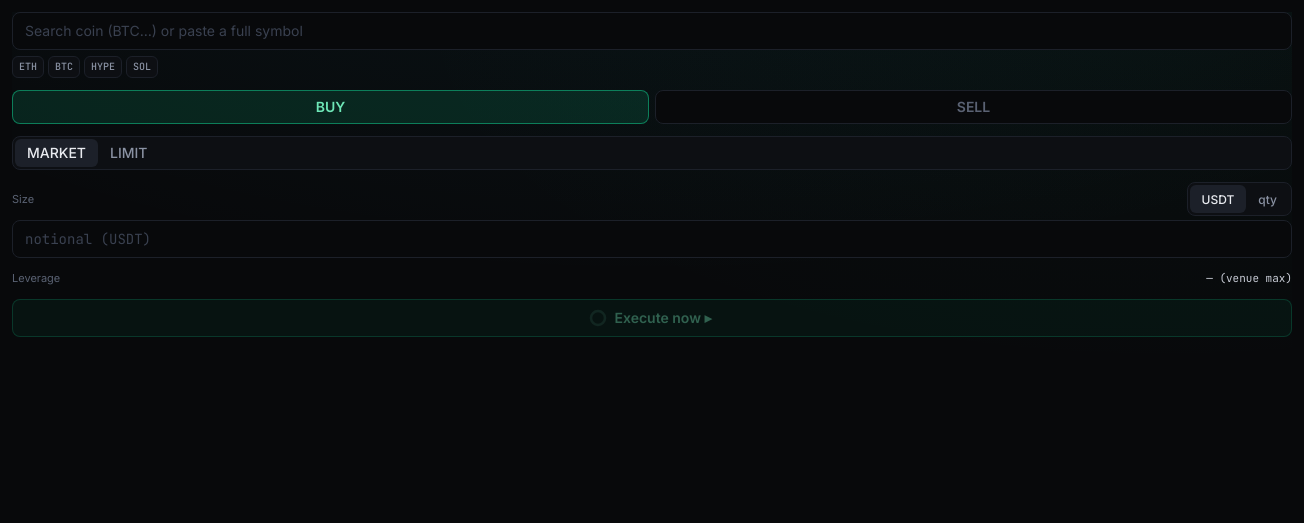
Test: SingleTicket › blur-snaps a resting SELL price UP, never down onto the bid (Hyperliquid)
In the field labelled "Symbol search": (652, 31) [12,12,1292,50], type "BTC"
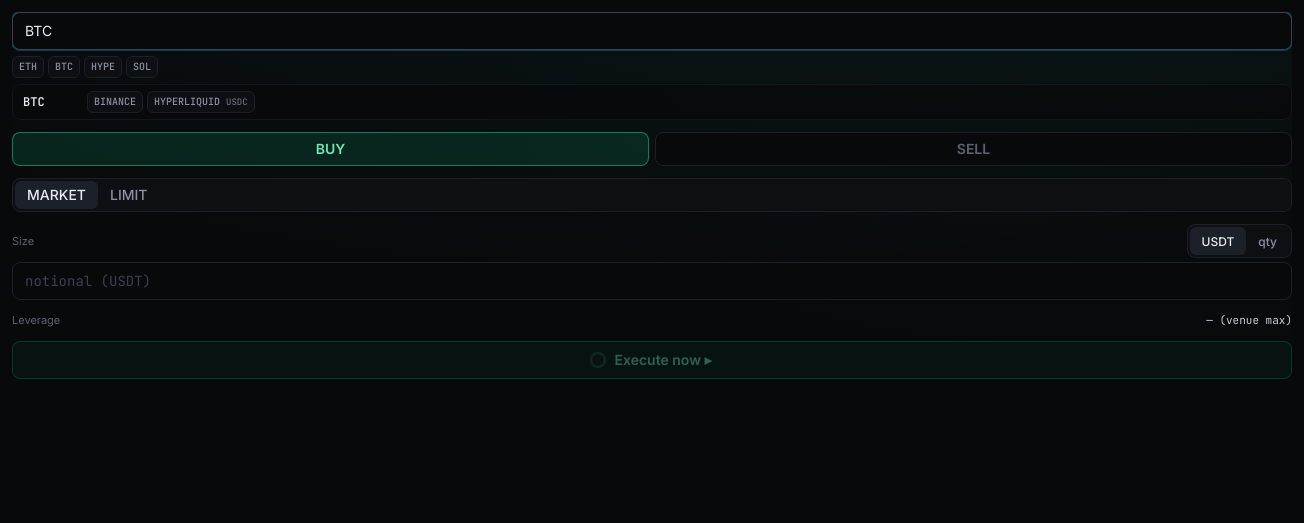
Click the button "HYPERLIQUID USDC": (201, 102) [147,91,255,113]
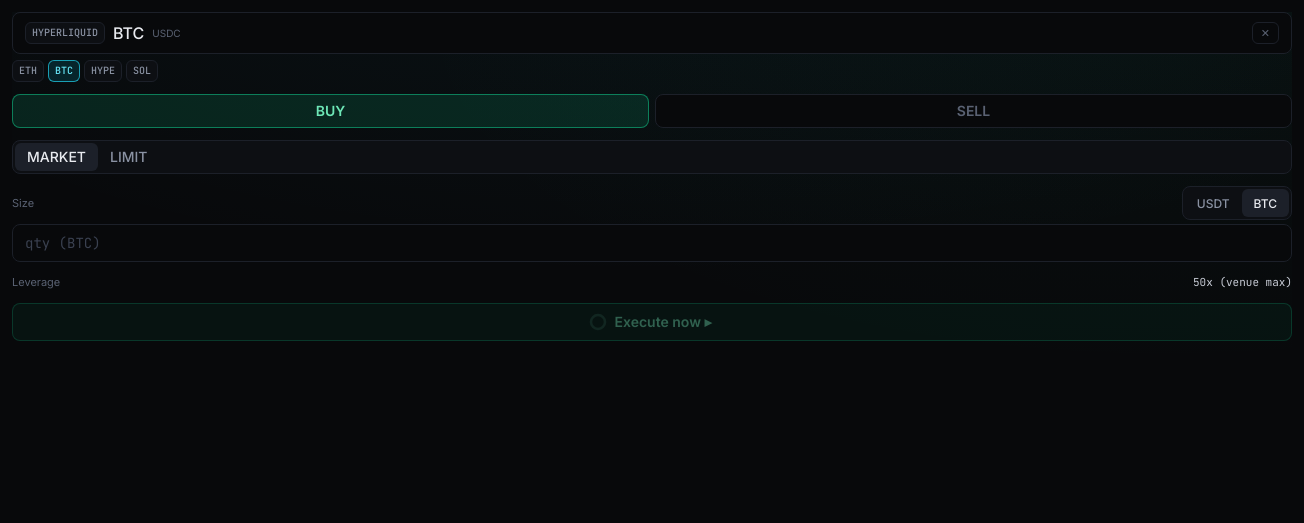
Check: the text "50x (venue max)" is shown, box [1193,274,1292,290]
Click the radio button labelled "SELL": (974, 111) [655,94,1292,128]
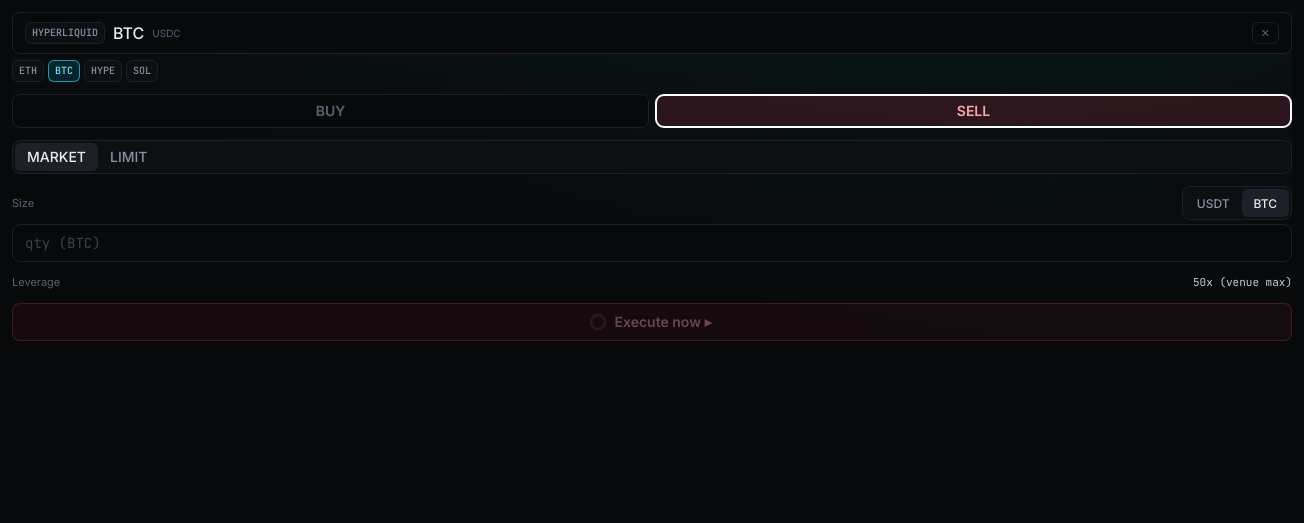
Click the radio button labelled "LIMIT": (129, 157) [98,143,160,171]
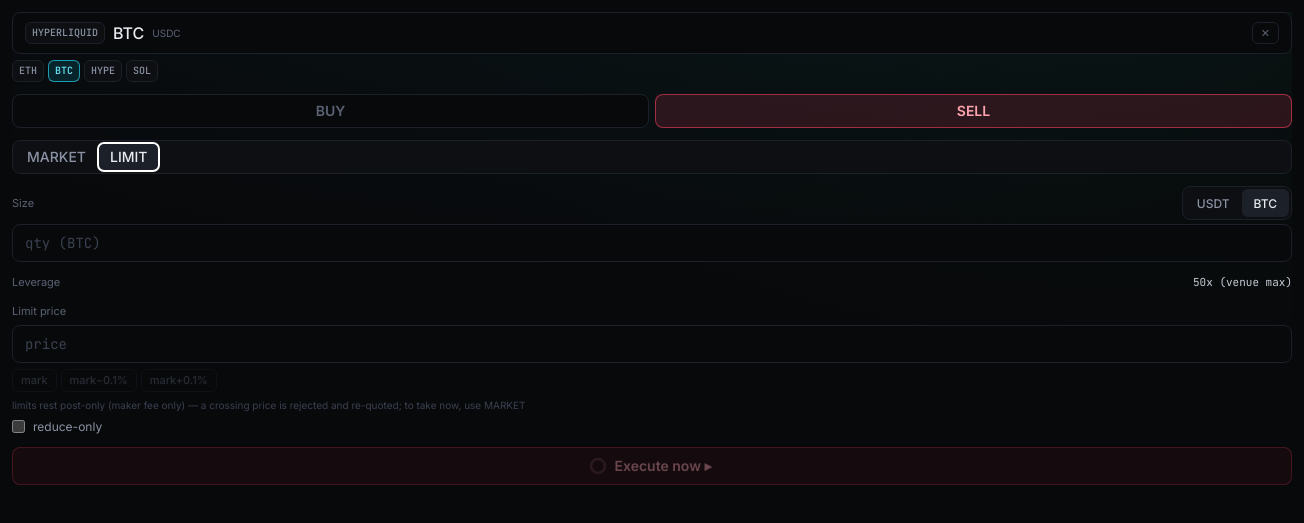
In the field labelled "Limit price": (652, 344) [12,325,1292,363], type "61717.4"
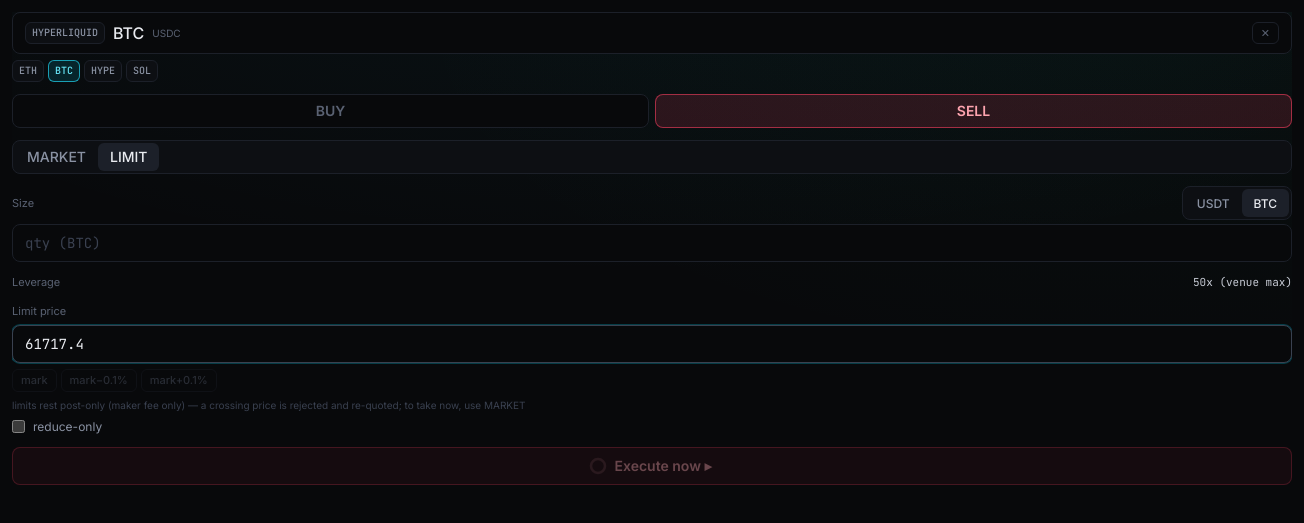
Press Tab
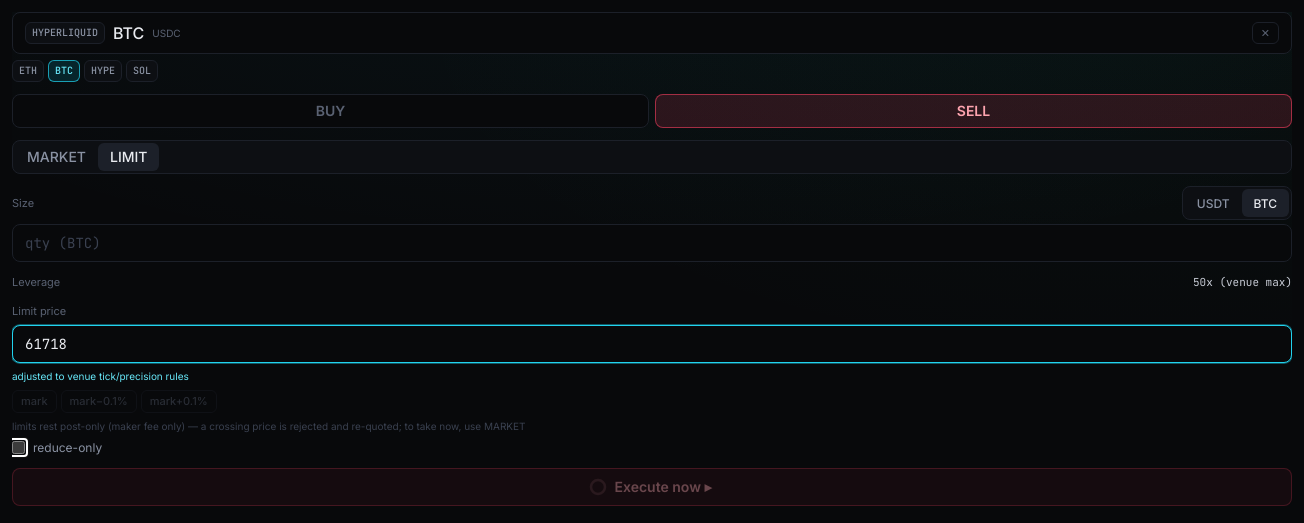
Check: the field labelled "Limit price" holds "61718", box [12,325,1292,363]
